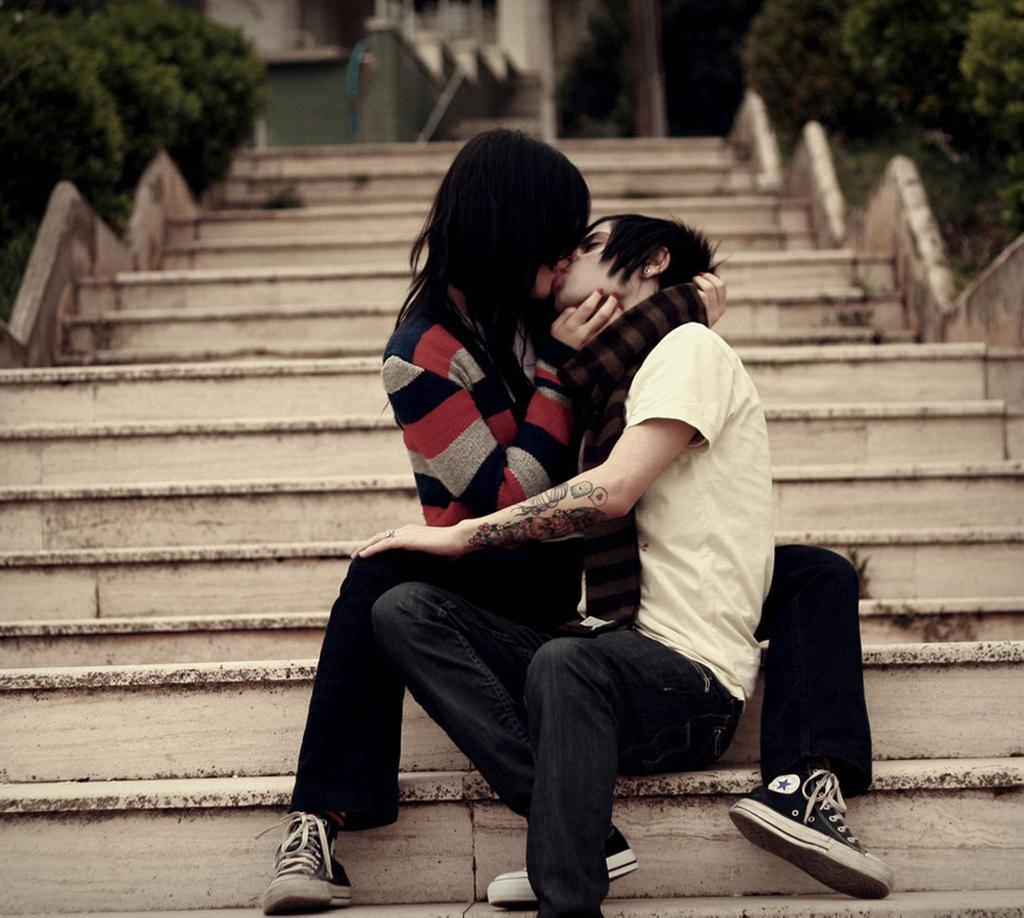face: (560, 210, 648, 302)
